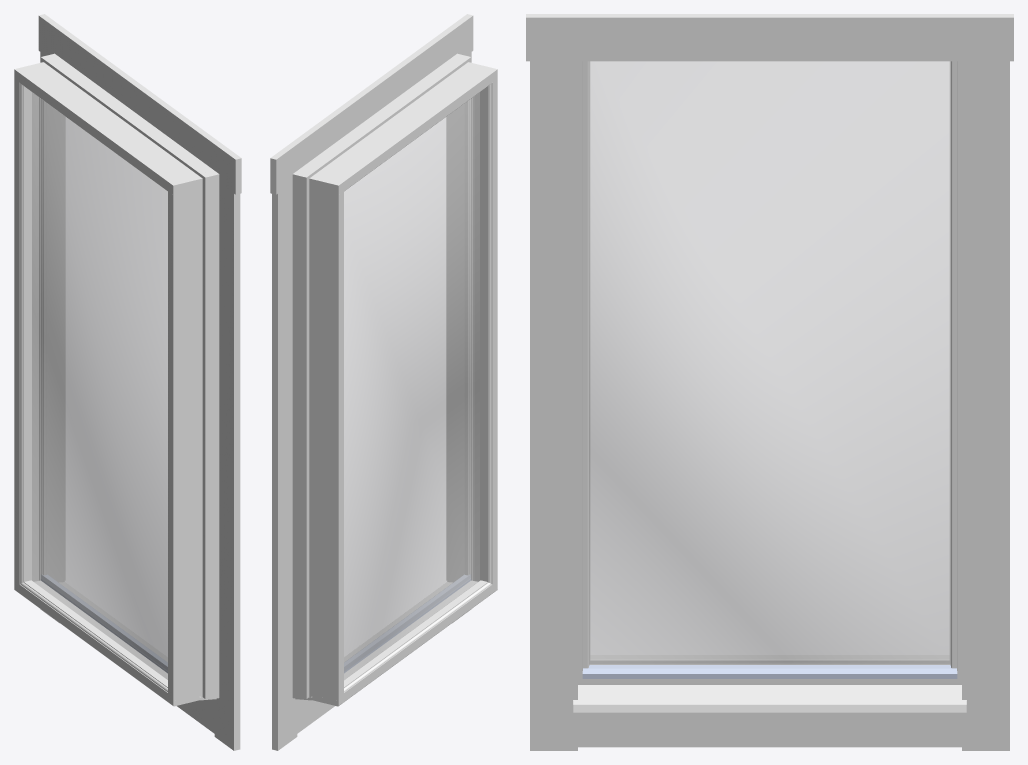
The picture shows the model from 3 angles, left to right: view 1: azimuth 30°, elevation 25°; view 2: azimuth 150°, elevation 25°; view 3: azimuth 270°, elevation 25°; orthographic projection. The views are drawn at different scales.
Parts seen in each view (by area): view 1: clear glass_clonedChild, clear glass, window_material-2[1], window_material-2, accentcolor_cornerboard_material-5[1], accentcolor_cornerboard_material[1], accentcolor_cornerboard_material-4, window_material-3, accentcolor_cornerboard_material, window_material, window_material-5[1], accentcolor_cornerboard_material-5 (+4 smaller); view 2: clear glass_clonedChild, clear glass, window_material-2, window_material-2[1], accentcolor_cornerboard_material-5, accentcolor_cornerboard_material, accentcolor_cornerboard_material-4, window_material-3, accentcolor_cornerboard_material[1], window_material, window_material-5, accentcolor_cornerboard_material-5[1] (+4 smaller); view 3: clear glass[1]_clonedChild, clear glass[1], accentcolor_cornerboard_material-5, accentcolor_cornerboard_material-5[1], accentcolor_cornerboard_material-4, accentcolor_cornerboard_material-6, matte steel, window_material, satin finish aluminum, window_material-5, window_material-5[1], window_material-2[1] (+1 smaller).
Part boxes in pixels (bbox=[...]): clear glass_clonedChild: bbox=[32, 93, 167, 679]; clear glass: bbox=[32, 93, 167, 678]; window_material-2[1]: bbox=[168, 187, 202, 701]; window_material-2: bbox=[14, 78, 40, 588]; accentcolor_cornerboard_material-5[1]: bbox=[214, 183, 240, 750]; accentcolor_cornerboard_material[1]: bbox=[200, 170, 219, 699]; accentcolor_cornerboard_material-4: bbox=[38, 14, 241, 194]; window_material-3: bbox=[14, 62, 202, 194]; accentcolor_cornerboard_material: bbox=[40, 53, 59, 580]; window_material: bbox=[14, 580, 202, 706]; window_material-5[1]: bbox=[41, 99, 46, 574]; accentcolor_cornerboard_material-5: bbox=[40, 52, 65, 623]; clear glass_clonedChild: bbox=[344, 93, 479, 679]; clear glass: bbox=[344, 93, 479, 678]; window_material-2: bbox=[309, 187, 343, 701]; window_material-2[1]: bbox=[471, 78, 497, 588]; accentcolor_cornerboard_material-5: bbox=[272, 183, 297, 750]; accentcolor_cornerboard_material: bbox=[292, 170, 311, 699]; accentcolor_cornerboard_material-4: bbox=[270, 14, 473, 194]; window_material-3: bbox=[309, 62, 497, 194]; accentcolor_cornerboard_material[1]: bbox=[452, 53, 471, 580]; window_material: bbox=[309, 580, 497, 706]; window_material-5: bbox=[465, 99, 470, 574]; accentcolor_cornerboard_material-5[1]: bbox=[446, 52, 471, 623]; clear glass[1]_clonedChild: bbox=[590, 62, 949, 664]; clear glass[1]: bbox=[590, 62, 949, 664]; accentcolor_cornerboard_material-5: bbox=[962, 61, 1009, 750]; accentcolor_cornerboard_material-5[1]: bbox=[530, 61, 577, 750]; accentcolor_cornerboard_material-4: bbox=[526, 14, 1013, 61]; accentcolor_cornerboard_material-6: bbox=[578, 712, 961, 747]; matte steel: bbox=[573, 683, 966, 712]; window_material: bbox=[578, 655, 961, 683]; satin finish aluminum: bbox=[582, 665, 957, 678]; window_material-5: bbox=[583, 61, 589, 668]; window_material-5[1]: bbox=[950, 61, 956, 668]; window_material-2[1]: bbox=[578, 61, 590, 679].
Size of the model in its own units: 0.1872 by 2.02 by 1.22.
Materials: 21 (17 with a texture image).
